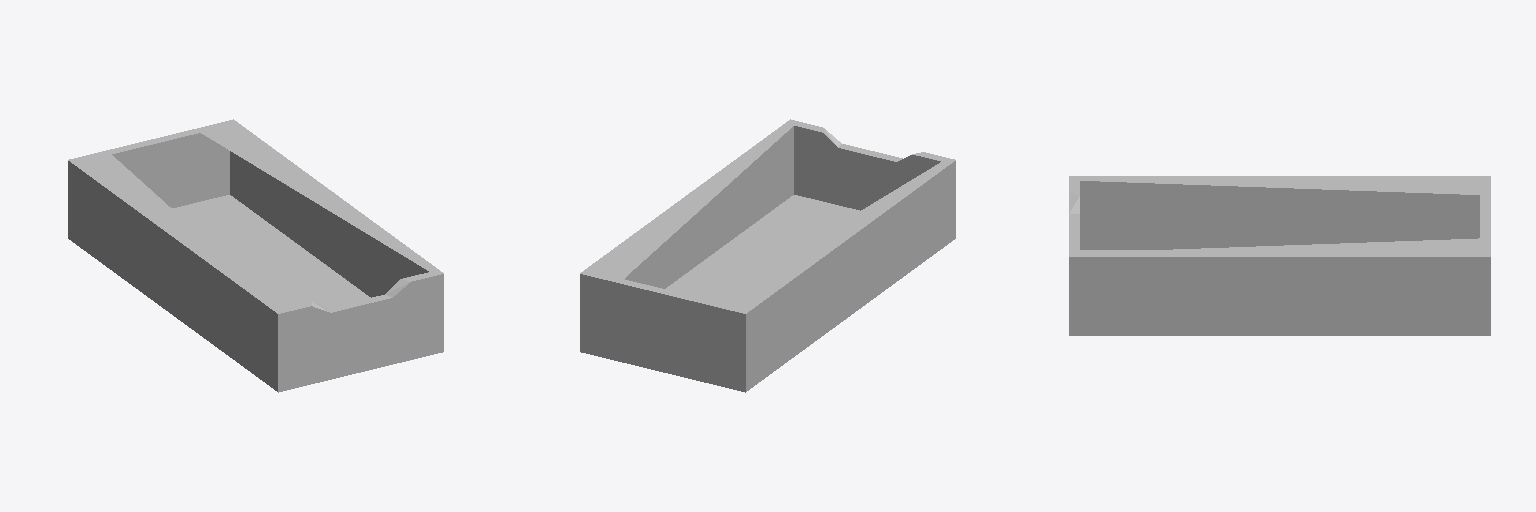
File: desk_drawer2.obj
3 views of the same model, side by side, from view 1: azimuth 30°, elevation 25°; view 2: azimuth 150°, elevation 25°; view 3: azimuth 270°, elevation 25° (orthographic).
Parts seen in each view (by area): view 1: off; view 2: off; view 3: off.
Part boxes in pixels (x1,y1,x2,y2): off: (68,119,443,392); off: (580,119,955,392); off: (1069,176,1490,335).
Bounding box in the file's own units: 0.355 × 0.16 × 0.78.